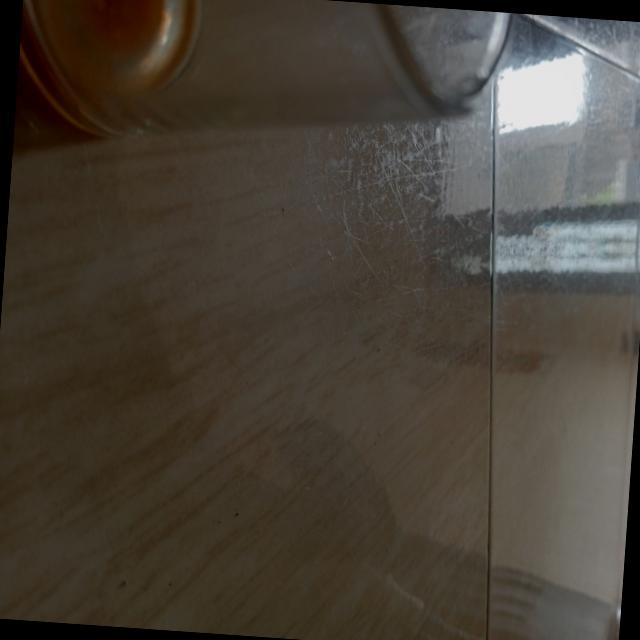glass-VX4N: (12, 0, 519, 169)
